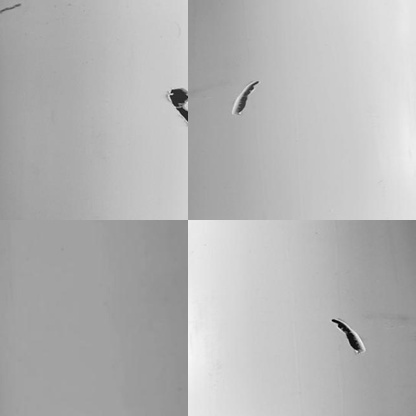kongdong: (326, 316, 372, 355), (233, 82, 261, 122), (164, 85, 188, 123)
